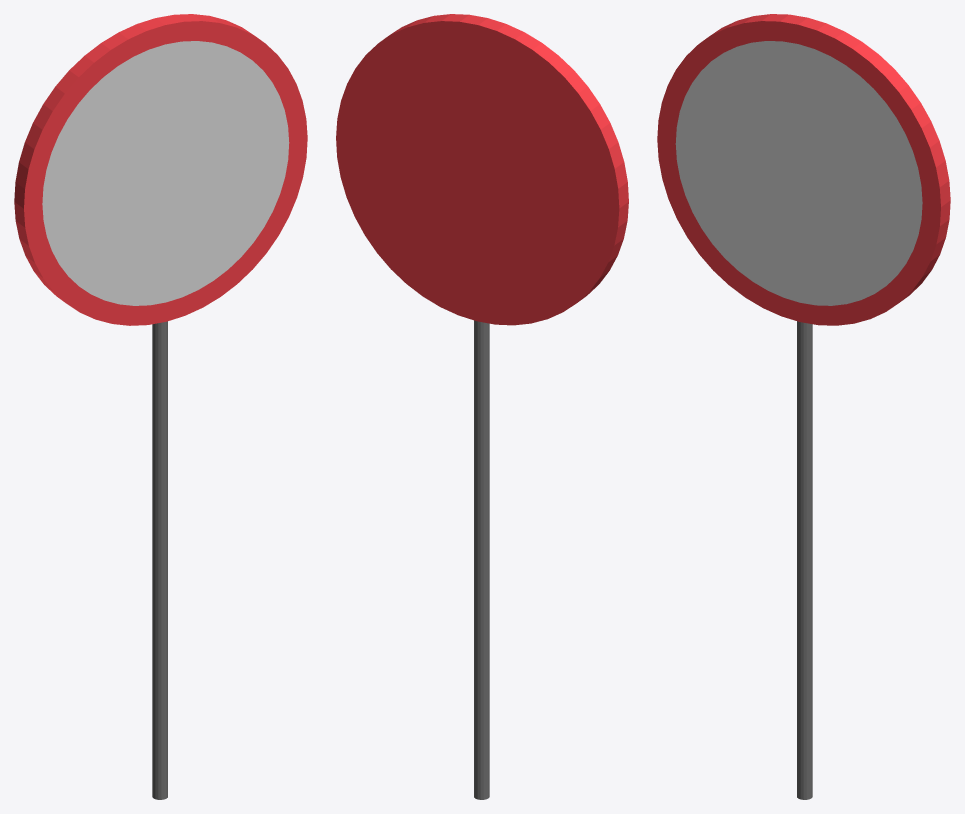
File: signs circle red white.fbx
The picture shows the model from 3 angles, left to right: view 1: azimuth 30°, elevation 25°; view 2: azimuth 150°, elevation 25°; view 3: azimuth 330°, elevation 25°; orthographic projection.
Parts seen in each view (by area): view 1: Cube.008; view 2: Cube.008; view 3: Cube.008.
Part boxes in pixels (x1,y1,x2,y2): Cube.008: (14, 14, 307, 799); Cube.008: (336, 14, 628, 799); Cube.008: (657, 14, 950, 799).
Bounding box in the file's own units: 172 × 10.13 × 450.
